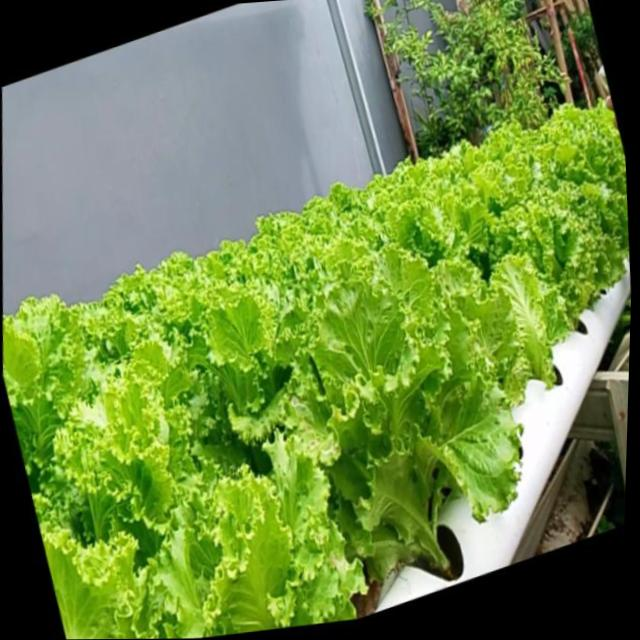Mature: (2, 107, 630, 639), (288, 266, 507, 597), (493, 197, 611, 363)
